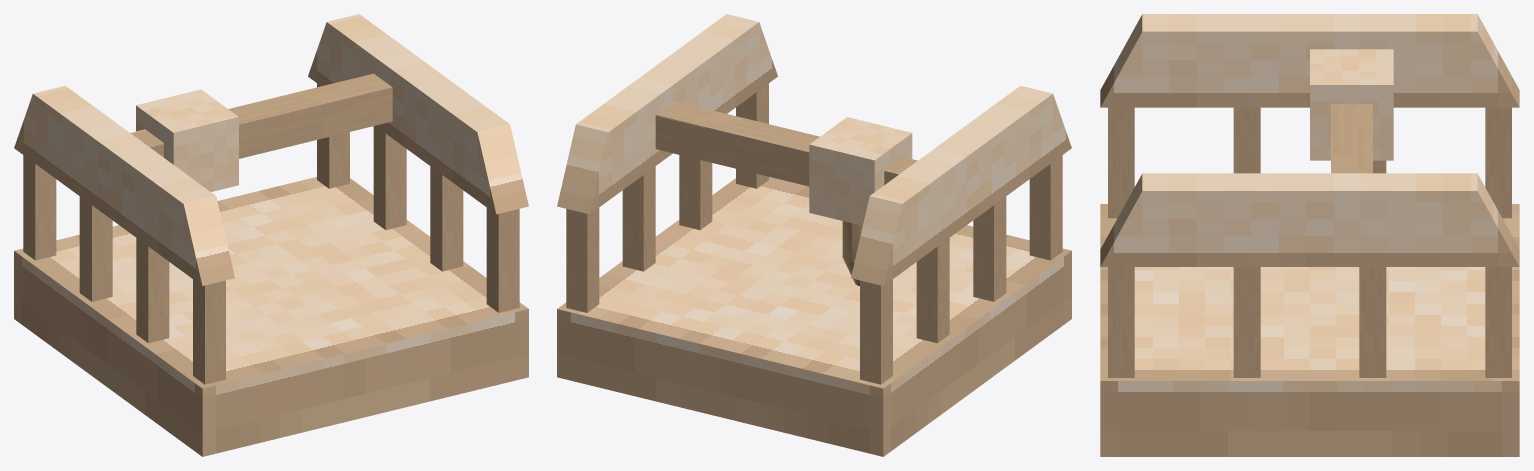
File: rustedinscriber.obj
3 renders of one model, left to right at view 1: azimuth 30°, elevation 25°; view 2: azimuth 150°, elevation 25°; view 3: azimuth 270°, elevation 25°, orthographic. The views are drawn at different scales.
Visible parts, largest first — view 1: g1_group, g0, g2_group; view 2: g1_group, g0, g2_group; view 3: g1_group, g2_group, g0.
Part boxes in pixels (x1=…): g1_group: x1=14, y1=14, x2=528, y2=456; g0: x1=130, y1=73, x2=392, y2=158; g2_group: x1=136, y1=89, x2=238, y2=191; g1_group: x1=557, y1=14, x2=1071, y2=456; g0: x1=655, y1=101, x2=917, y2=186; g2_group: x1=809, y1=117, x2=912, y2=285; g1_group: x1=1100, y1=14, x2=1519, y2=456; g2_group: x1=1310, y1=49, x2=1393, y2=160; g0: x1=1331, y1=104, x2=1372, y2=173.
Size of the model in its own units: 1 by 0.7 by 1.
